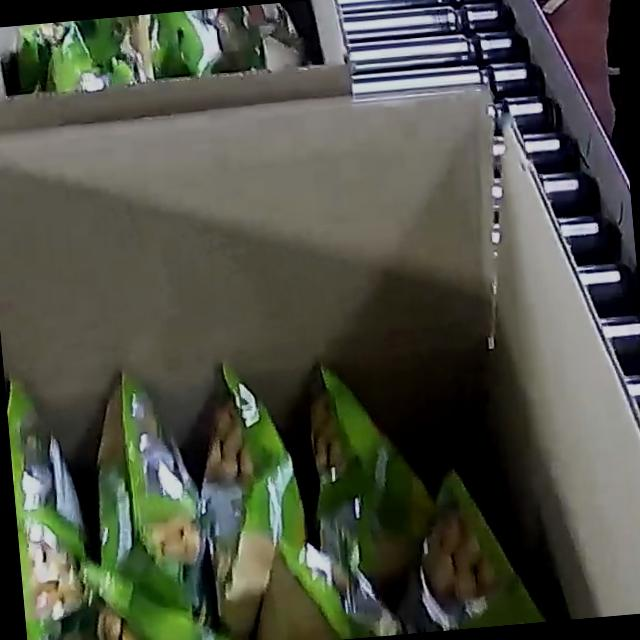yogurt: (3, 323, 596, 640), (8, 0, 308, 98)
